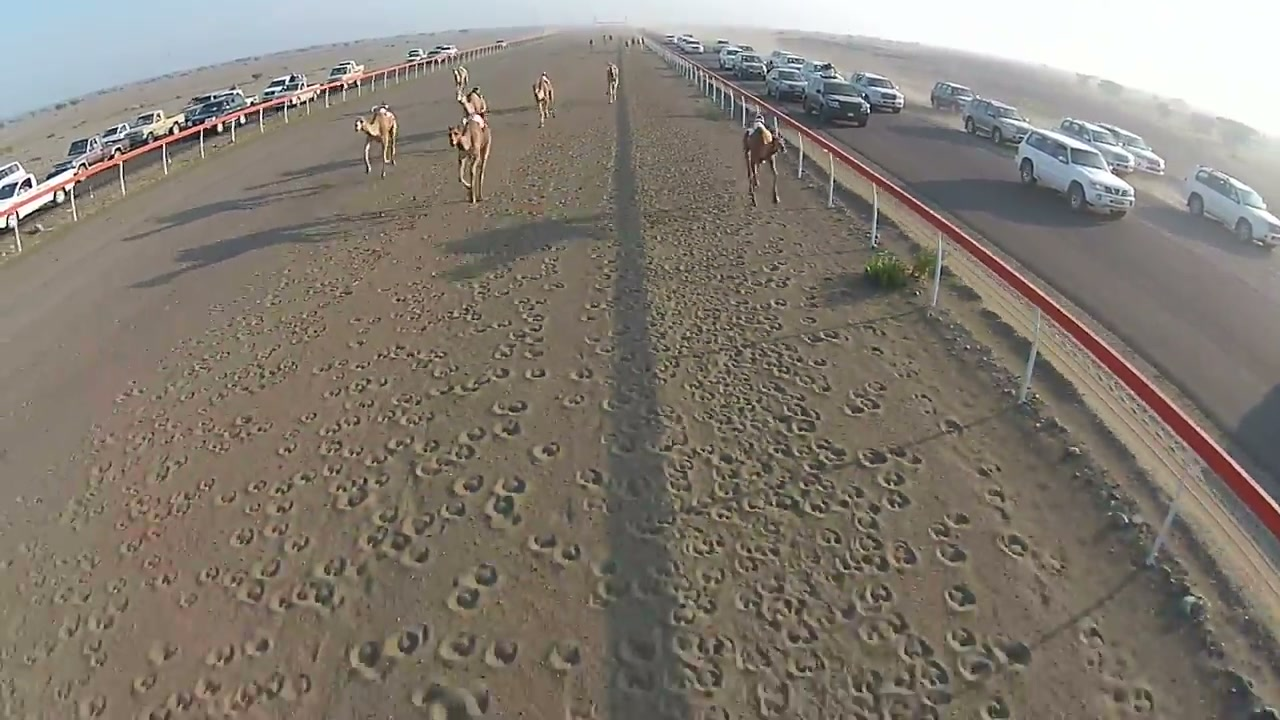animal_footprint: (0, 48, 1218, 719)
